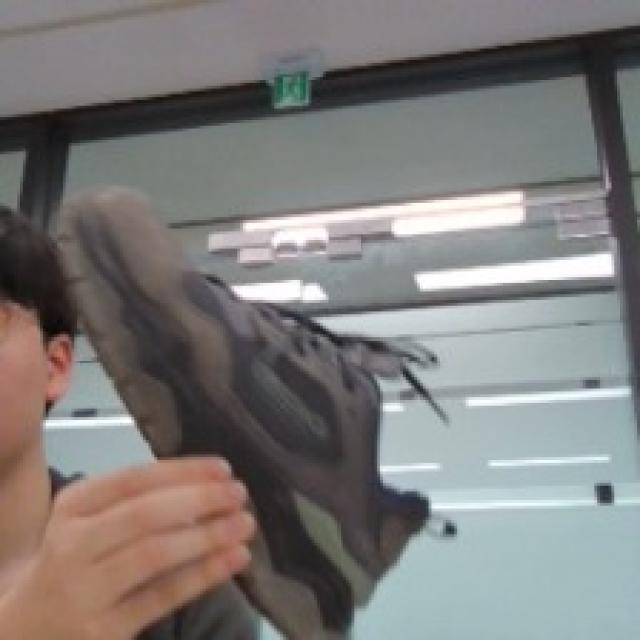shoe: (18, 130, 489, 640)
